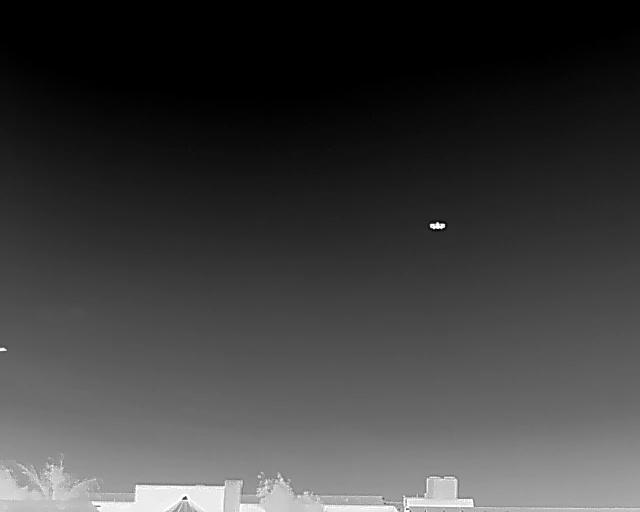fpv-drone: (428, 220, 446, 231)
